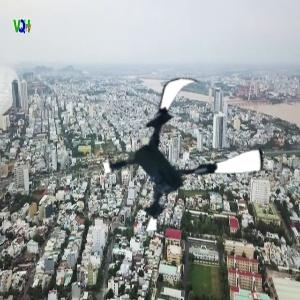drone: (105, 78, 263, 236)
